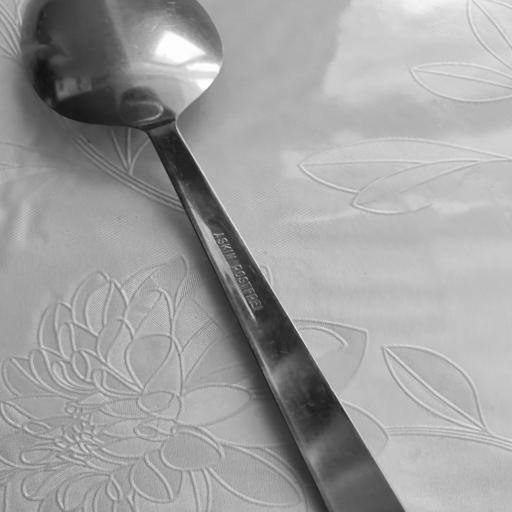spoon: (15, 0, 407, 512)
